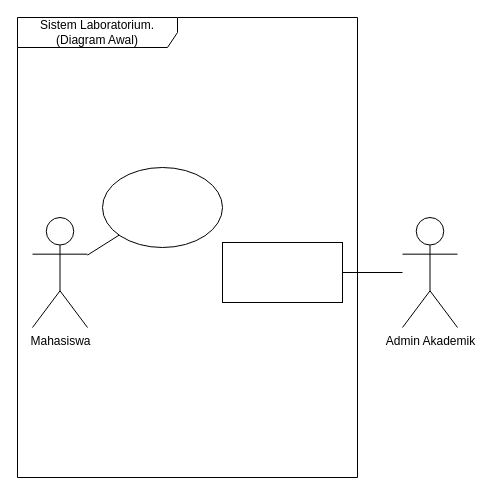
Image size: 492x495. Some labels were removed from this diagram. Here are the shapes that lost their labels. From the top down, the box of each, then its label:
(102, 166, 222, 248): Kelola Jadwal Kuliah
(222, 242, 342, 302): Lihat Jadwal Kuliah
